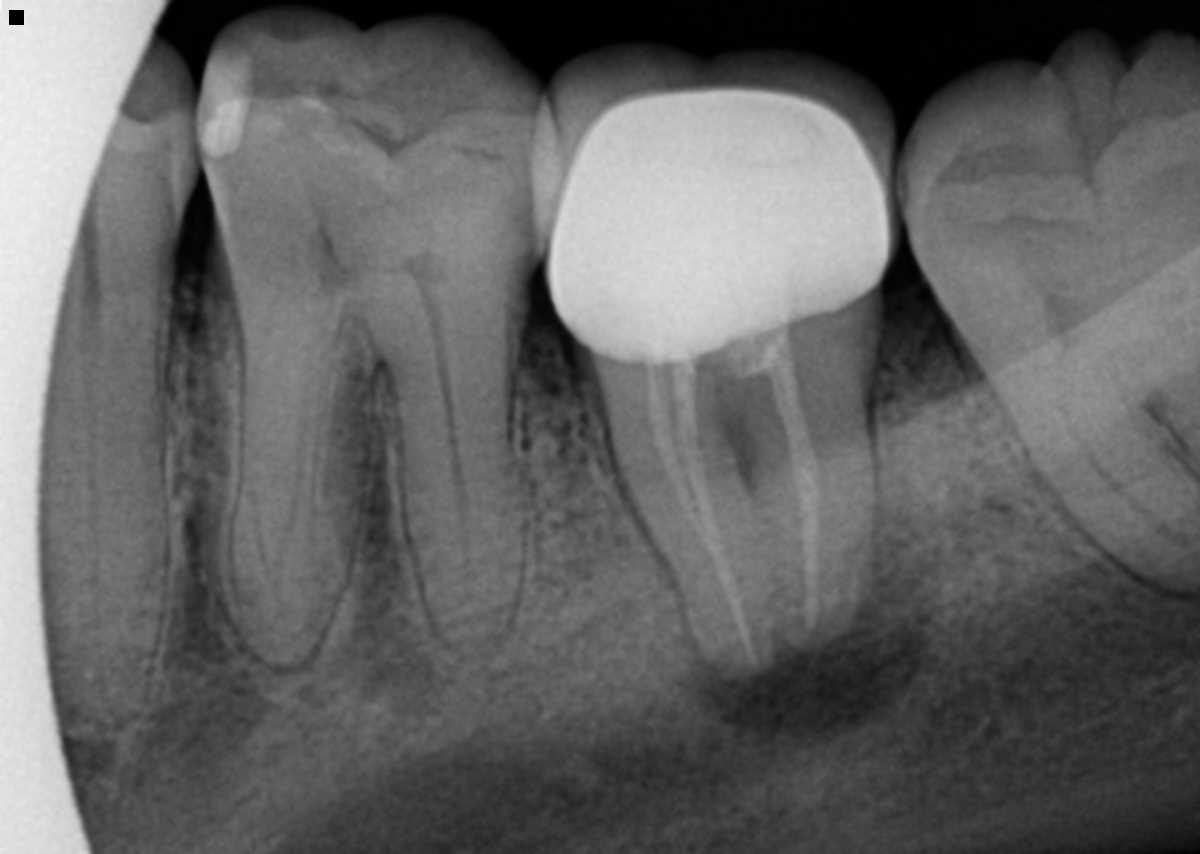Apical Lesion: (682, 509, 936, 740)
Distal Canal: (425, 294, 474, 597)
Distal Root: (362, 280, 529, 653), (739, 291, 880, 648), (1144, 300, 1200, 460)
Main Canal: (81, 213, 104, 695)
Main Root: (36, 206, 175, 738)
Mesial Canal: (1057, 355, 1199, 548)
Mesial Root: (574, 336, 776, 666), (211, 246, 362, 671), (988, 352, 1200, 597)
Root Canal Filling: (666, 349, 758, 654), (756, 341, 822, 639), (639, 351, 722, 545)
